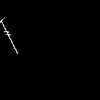treble_crochet: (0, 20, 16, 51)
